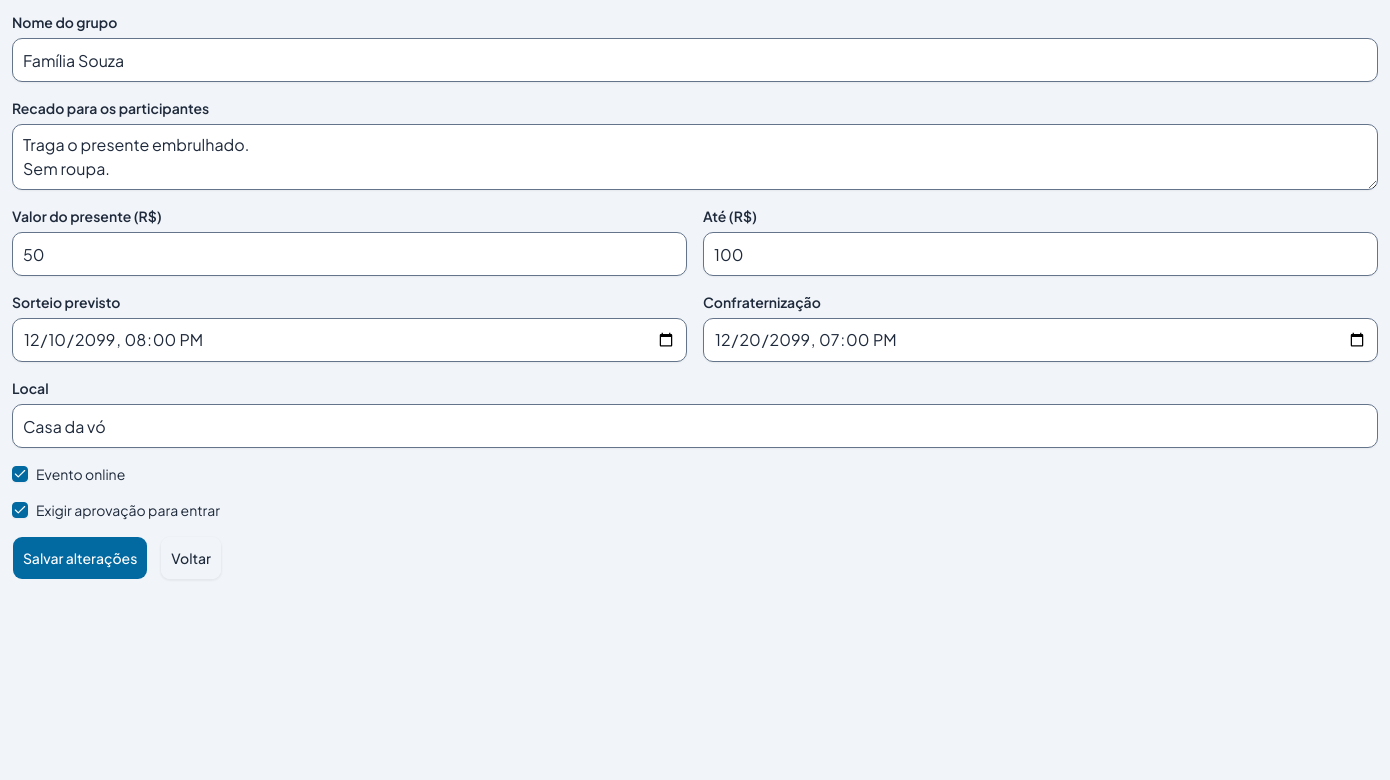
GroupForm › mostra a mensagem da API num 403 e num 409
Click the button "Salvar alterações": (80, 558) [12,536,148,580]
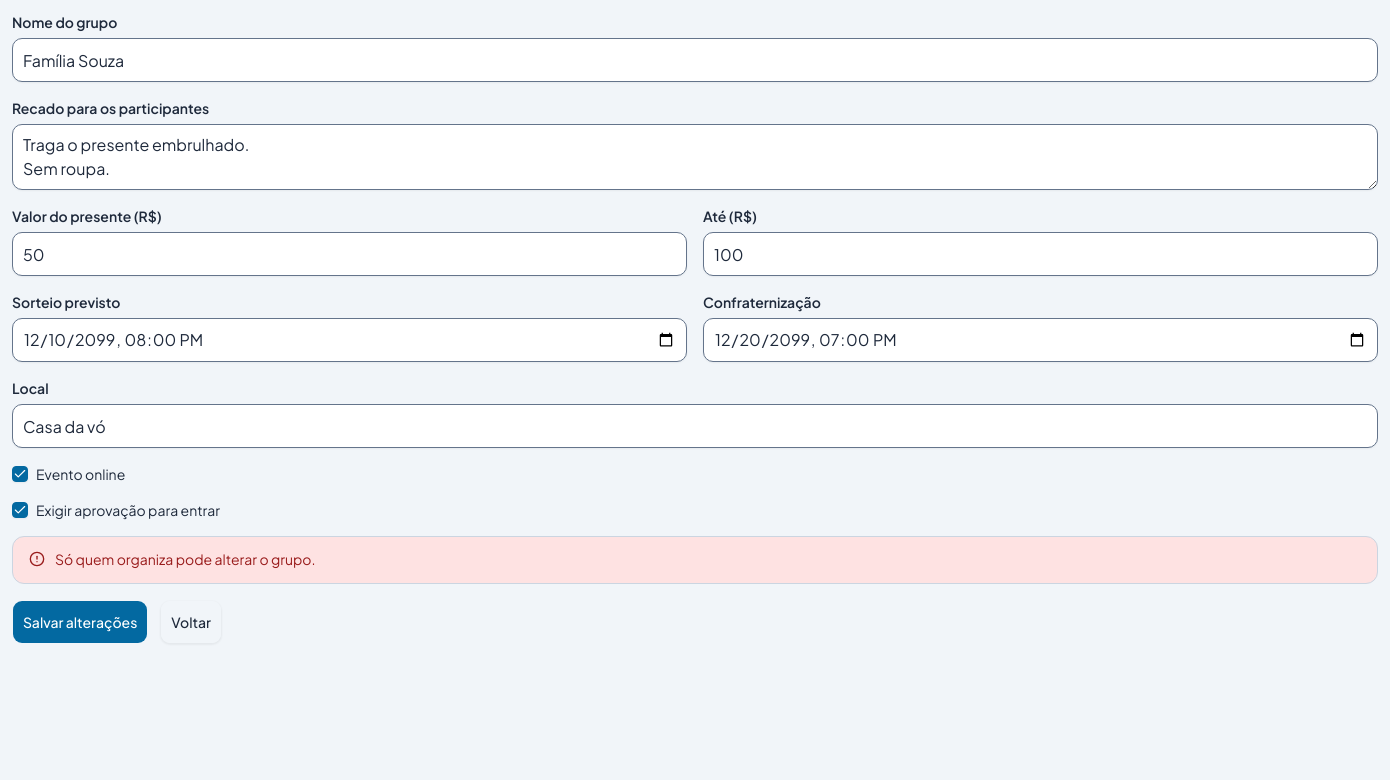
Check: the message reads "Só quem organiza pode alterar o grupo.", box [55,550,316,568]
Click the button "Salvar alterações": (80, 622) [12,600,148,644]
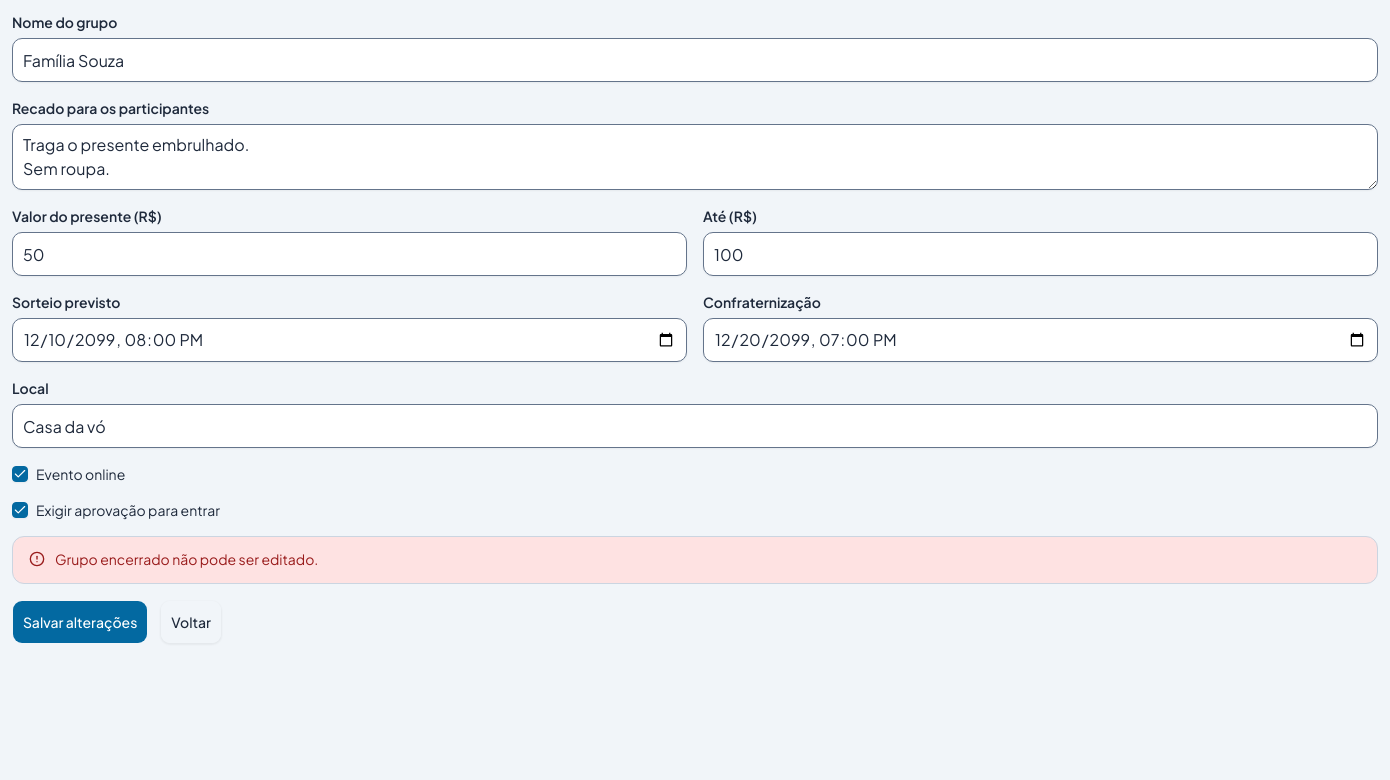
Check: the text "Grupo encerrado não pode ser editado." is shown, box [55,550,318,568]
Check: the message no longer shows "Só quem organiza", box [12,536,1378,584]
